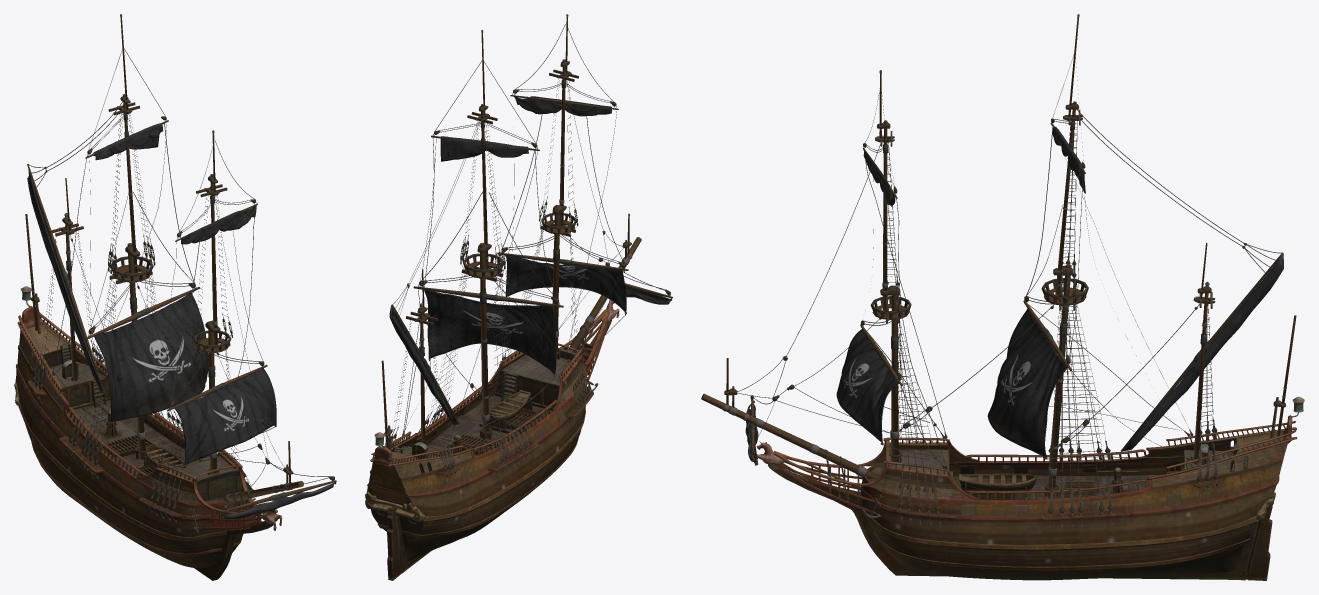
The model's file is ron_burgundy_sail.glb.
The picture shows the model from 3 angles, left to right: view 1: azimuth 30°, elevation 25°; view 2: azimuth 150°, elevation 25°; view 3: azimuth 270°, elevation 25°; orthographic projection. The views are drawn at different scales.
Visible parts, largest first — view 1: RonBurgundy_Hull.001, RonBurgundy_Rigging.001, RonBurgundy_Sails.001, RonBurgundy_Rigging_B.001; view 2: RonBurgundy_Hull.001, RonBurgundy_Rigging.001, RonBurgundy_Sails.001, RonBurgundy_Rigging_B.001; view 3: RonBurgundy_Hull.001, RonBurgundy_Rigging.001, RonBurgundy_Sails.001, RonBurgundy_Rigging_B.001.
Part boxes in pixels (box(x1,y1,x2,y2)): RonBurgundy_Hull.001: box(14, 286, 282, 580); RonBurgundy_Rigging.001: box(25, 14, 336, 532); RonBurgundy_Sails.001: box(93, 123, 276, 465); RonBurgundy_Rigging_B.001: box(27, 169, 334, 519); RonBurgundy_Hull.001: box(365, 300, 619, 580); RonBurgundy_Rigging.001: box(381, 14, 672, 484); RonBurgundy_Sails.001: box(424, 96, 626, 374); RonBurgundy_Rigging_B.001: box(389, 287, 670, 425); RonBurgundy_Hull.001: box(754, 396, 1304, 580); RonBurgundy_Rigging.001: box(701, 14, 1296, 529); RonBurgundy_Sails.001: box(836, 126, 1085, 457); RonBurgundy_Rigging_B.001: box(745, 254, 1283, 461).
Bounding box in the file's own units: 6.8 × 24.68 × 24.07.
Materials: 4 (4 with a texture image).
